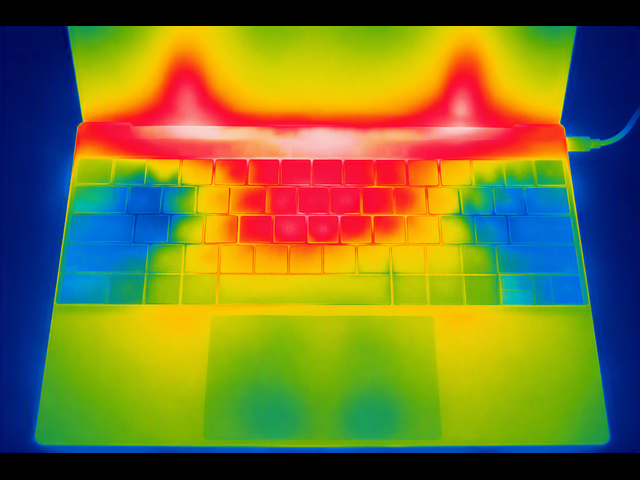c_cover: (34, 121, 610, 445)
